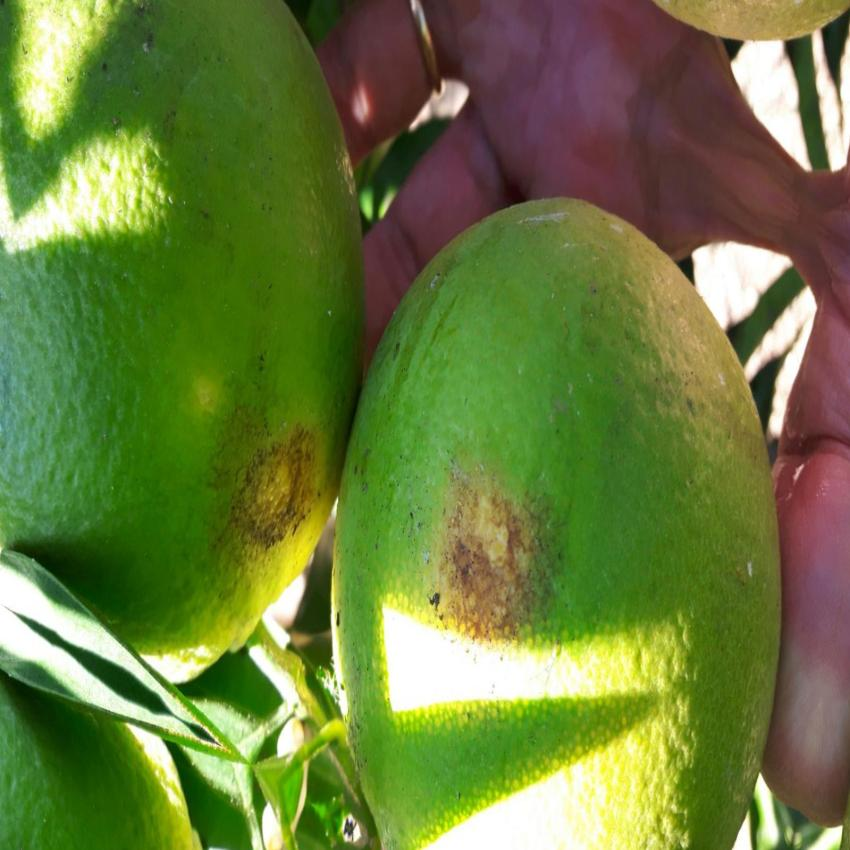Mal estado: (328, 188, 781, 846), (0, 0, 371, 690)
